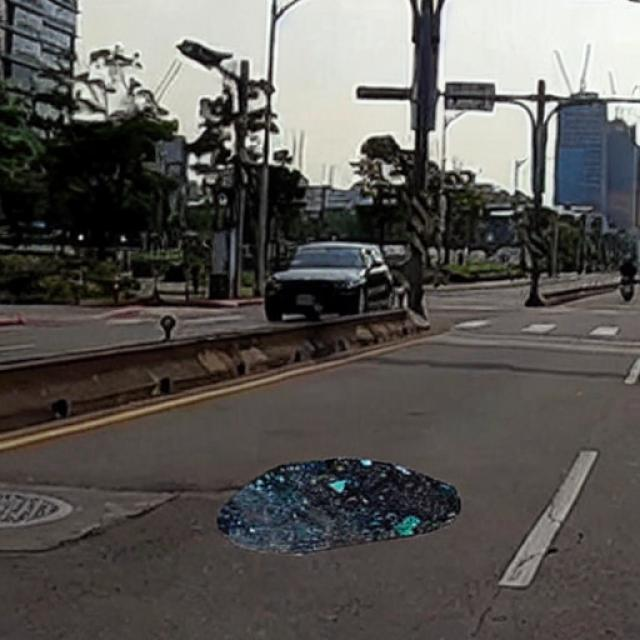puddle: (221, 460, 463, 554)
